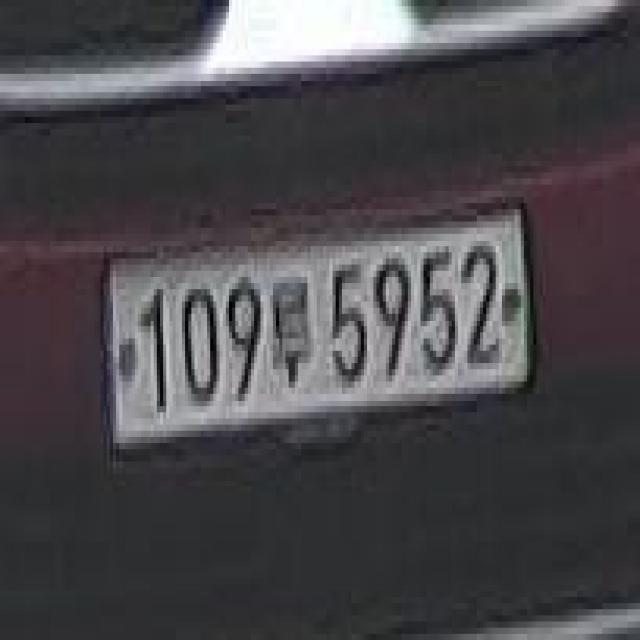illegal_plate: (100, 200, 534, 470)
